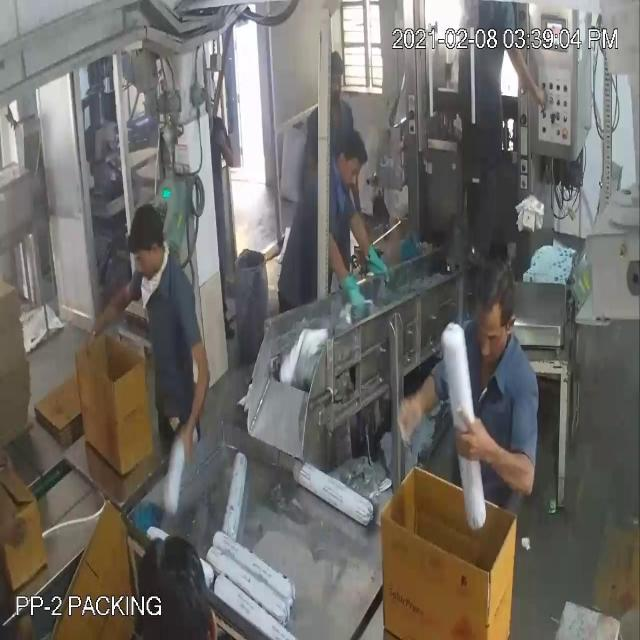No_Gloves: (47, 89, 498, 456)
